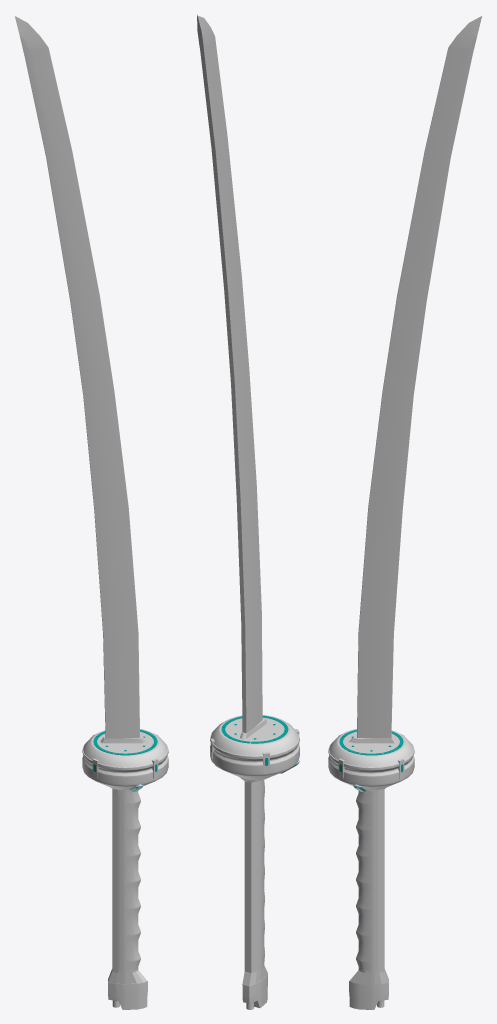
File: Gantz_Blade.fbx
3 views of the same model, side by side, from view 1: azimuth 90°, elevation 25°; view 2: azimuth 150°, elevation 25°; view 3: azimuth 270°, elevation 25° (orthographic). The views are drawn at different scales.
Visible parts, largest first — view 1: blade, pCylinder18, pCylinder1, pCylinder3; view 2: blade, pCylinder18, pCylinder1, pCylinder3, Cylinder; view 3: blade, pCylinder18, pCylinder1, pCylinder3.
Part boxes in pixels (x1=…): blade: x1=15, y1=16, x2=139, y2=738; pCylinder18: x1=108, y1=787, x2=147, y2=983; pCylinder1: x1=82, y1=729, x2=168, y2=790; pCylinder3: x1=108, y1=981, x2=147, y2=1009; blade: x1=197, y1=14, x2=262, y2=733; pCylinder18: x1=239, y1=777, x2=267, y2=986; pCylinder1: x1=210, y1=715, x2=299, y2=780; pCylinder3: x1=242, y1=971, x2=267, y2=1007; Cylinder: x1=221, y1=715, x2=288, y2=743; blade: x1=357, y1=16, x2=481, y2=738; pCylinder18: x1=349, y1=787, x2=388, y2=984; pCylinder1: x1=328, y1=729, x2=414, y2=790; pCylinder3: x1=349, y1=981, x2=388, y2=1009.
Bounding box in the file's own units: 15.86 × 201 × 28.35.
